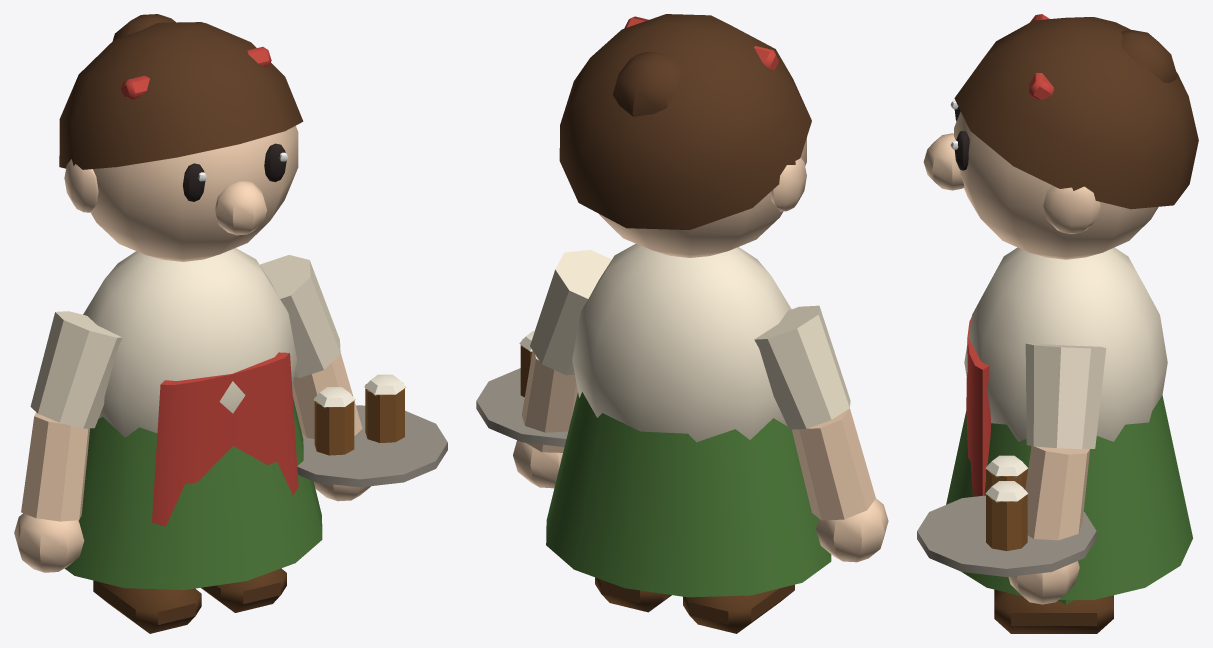
File: CH_Staff_01_GarsonMina.fbx
The picture shows the model from 3 angles, left to right: view 1: azimuth 30°, elevation 25°; view 2: azimuth 150°, elevation 25°; view 3: azimuth 270°, elevation 25°; orthographic projection. The views are drawn at different scales.
Parts seen in each view (by area): view 1: CH_Staff_01_GarsonMina; view 2: CH_Staff_01_GarsonMina; view 3: CH_Staff_01_GarsonMina.
Part boxes in pixels (x1,y1,x2,y2): CH_Staff_01_GarsonMina: (14,14,447,633); CH_Staff_01_GarsonMina: (476,14,888,633); CH_Staff_01_GarsonMina: (917,14,1198,633).
Bounding box in the file's own units: 0.7892 × 1.06 × 0.4709.
